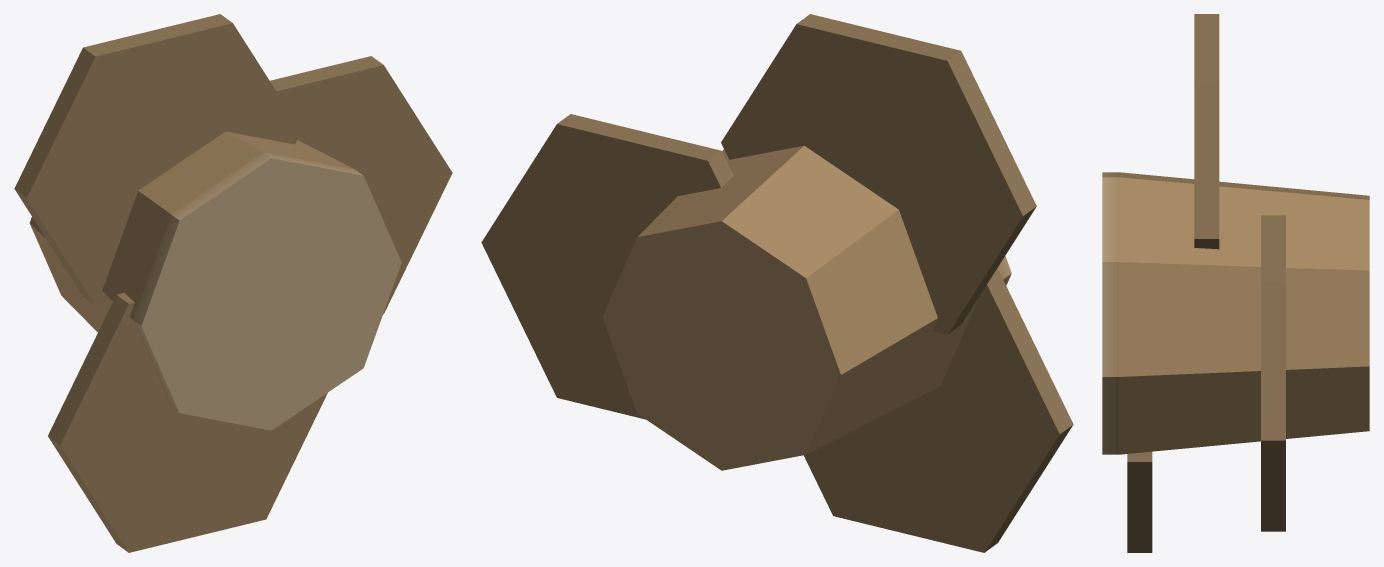
The model's file is tree_stump.glb.
The picture shows the model from 3 angles, left to right: view 1: azimuth 30°, elevation 25°; view 2: azimuth 150°, elevation 25°; view 3: azimuth 270°, elevation 25°; orthographic projection. The views are drawn at different scales.
Parts seen in each view (by area): view 1: geometry_0; view 2: geometry_0; view 3: geometry_0.
Boxes of the visible parts, x1,y1,x2,y2 form: geometry_0: [14, 14, 452, 552]; geometry_0: [481, 14, 1073, 552]; geometry_0: [1102, 14, 1369, 552].
Bounding box in the file's own units: 0.635 × 0.6235 × 0.32.
